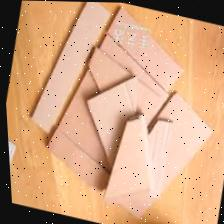cardboard: (31, 1, 179, 182), (105, 77, 224, 224), (23, 0, 113, 141), (92, 106, 173, 217)
